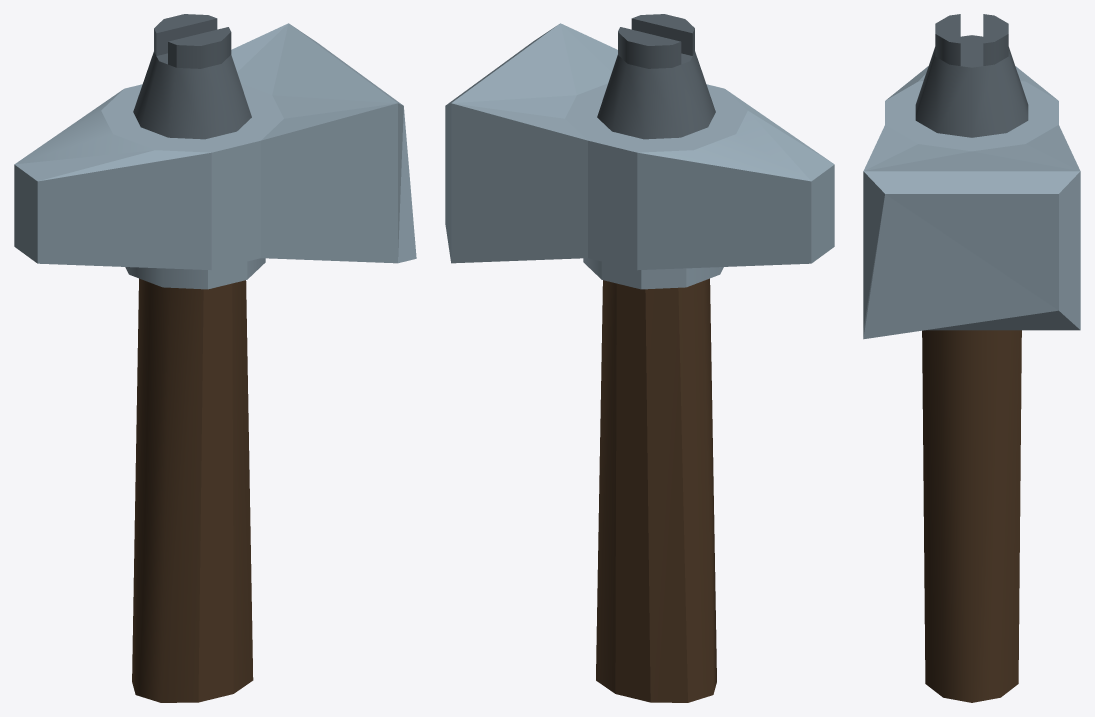
The model's file is Hammer.fbx.
3 renders of one model, left to right at view 1: azimuth 30°, elevation 25°; view 2: azimuth 150°, elevation 25°; view 3: azimuth 270°, elevation 25°, orthographic.
Parts seen in each view (by area): view 1: Model; view 2: Model; view 3: Model.
Boxes of the visible parts, box(x1,y1,x2,y2) form: Model: box(14, 14, 416, 702); Model: box(445, 14, 834, 702); Model: box(863, 14, 1080, 702).
Bounding box in the file's own units: 42.1 × 77.95 × 23.72.
